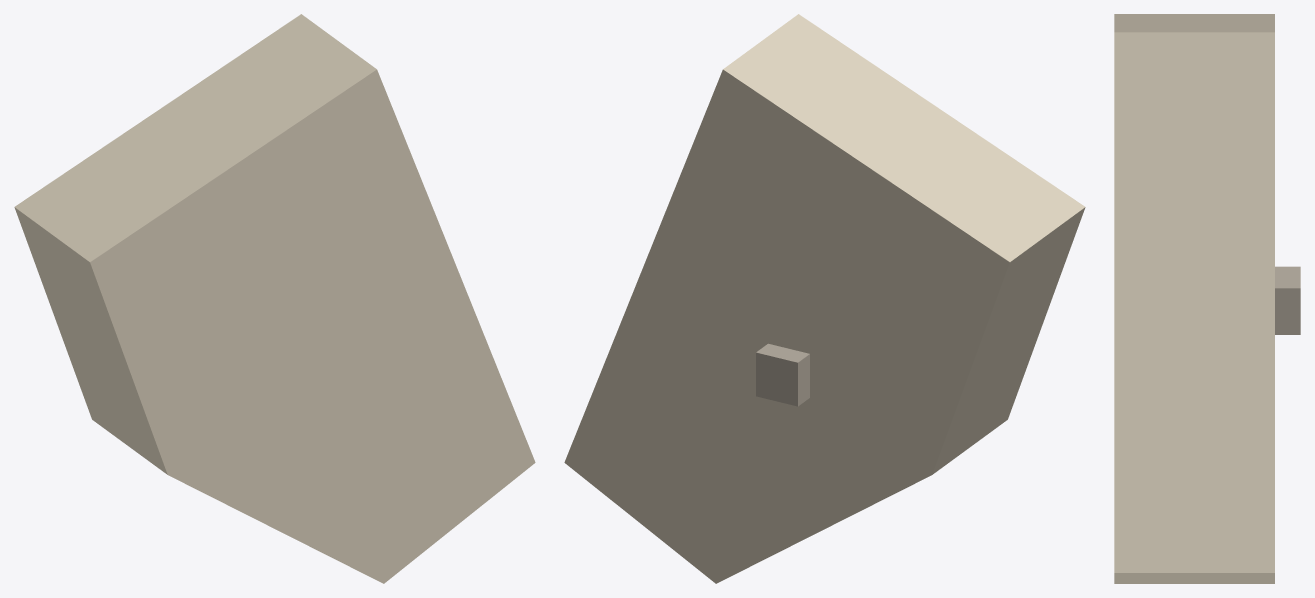
File: historic-palestine-13_25_3547_3193.glb
The picture shows the model from 3 angles, left to right: view 1: azimuth 30°, elevation 25°; view 2: azimuth 150°, elevation 25°; view 3: azimuth 270°, elevation 25°; orthographic projection. The views are drawn at different scales.
Parts seen in each view (by area): view 1: Building_; view 2: Building_, Roof access hut; view 3: Building_, Roof access hut.
Boxes of the visible parts, box(x1,y1,x2,y2) form: Building_: box(14, 14, 535, 583); Building_: box(564, 14, 1085, 583); Roof access hut: box(756, 343, 809, 406); Building_: box(1114, 14, 1274, 583); Roof access hut: box(1275, 266, 1300, 334).
Bounding box in the file's own units: 25.5 × 28.23 × 8.7.
